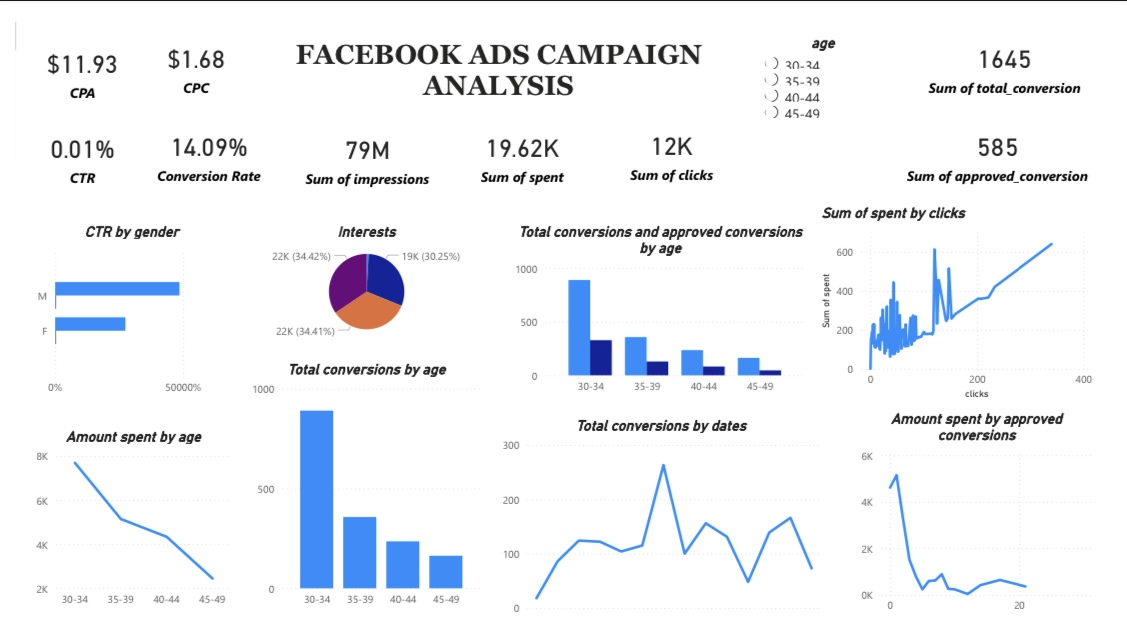

What the dashboard file says about the page in this screenshot:
{"tool":"powerbi","page":{"name":"Page 1","canvas":[1280,720],"ordinal":0},"visuals":[{"type":"card","fields":{"Values":["Sum(data.total_conversion)"]},"box":[1050.7,15.1,215.4,75.6],"z":0},{"type":"card","fields":{"Values":["Sum(data.spent)"]},"box":[519.7,113.4,147.4,86.9],"z":1000},{"type":"card","fields":{"Values":["Sum(data.impressions)"]},"box":[323.2,115.3,177.6,86.9],"z":2000},{"type":"card","fields":{"Values":["Sum(data.approved_conversion)"]},"box":[1033.7,107.7,232.4,94.5],"z":3000},{"type":"clusteredBarChart","title":"CTR by gender","fields":{"Category":["data.gender"],"Y":["CountNonNull(data.gender)","data.CTR"]},"box":[18.9,236.2,234.3,209.8],"z":4000},{"type":"card","fields":{"Values":["Sum(data.clicks)"]},"box":[691.7,111.5,153.1,86.9],"z":5000},{"type":"lineChart","title":"Amount spent by age","fields":{"Category":["data.age"],"Y":["Sum(data.spent)"]},"box":[18.9,476.2,238.1,217.3],"z":6000},{"type":"lineChart","fields":{"Y":["Sum(data.spent)"],"Category":["data.clicks"]},"box":[939.2,213.5,326.9,232.4],"z":7000},{"type":"lineChart","title":"Amount  spent by approved conversions","fields":{"Y":["Sum(data.spent)"],"Category":["data.approved_conversion"]},"box":[984.6,455.4,281.6,245.7],"z":8000},{"type":"clusteredColumnChart","title":"Total conversions and approved conversions by age","fields":{"Y":["Sum(data.total_conversion)","Sum(data.approved_conversion)"],"Category":["data.age"]},"box":[580.2,236.2,349.6,207.9],"z":9000},{"type":"pieChart","title":"Interests","fields":{"Y":["Sum(data.approved_conversion)","Sum(data.interest1)","Sum(data.interest2)","Sum(data.interest3)"]},"box":[257,236.2,308,141.7],"z":10000},{"type":"lineChart","title":"Total conversions by dates","fields":{"Category":["data.reporting_end","data.reporting_start"],"Y":["Sum(data.total_conversion)"]},"box":[565,463,381.7,238.1],"z":11000},{"type":"card","fields":{"Values":["data.CTR"]},"box":[18.9,111.5,119.1,92.6],"z":12000},{"type":"card","fields":{"Values":["data.Conversion Rate"]},"box":[147.4,111.5,158.7,88.8],"z":13000},{"type":"card","fields":{"Values":["data.CPC"]},"box":[151.2,13.2,120.9,77.5],"z":14000},{"type":"card","fields":{"Values":["data.CPA"]},"box":[18.9,15.1,119.1,86.9],"z":15000},{"type":"clusteredColumnChart","title":"Total conversions by age","fields":{"Y":["Sum(data.total_conversion)"],"Category":["data.age"]},"box":[272.1,396.9,277.8,296.7],"z":16000},{"type":"listSlicer","fields":{"Values":["data.age"]},"box":[871.2,15.1,149.3,183.3],"z":17000},{"type":"textbox","box":[287.2,15.1,557.5,86.9],"z":18000}]}

Visuals, with their boxes in screenshot pixels (x1, y1, x2, y2), scaled from the page's 1280x720 canvas onto the 1127x642 screenshot:
card - Sum(data.total_conversion): (925,13,1115,81)
card - Sum(data.spent): (458,101,587,179)
card - Sum(data.impressions): (285,103,441,180)
card - Sum(data.approved_conversion): (910,96,1115,180)
"CTR by gender" clusteredBarChart: (17,211,223,398)
card - Sum(data.clicks): (609,99,744,177)
"Amount spent by age" lineChart: (17,425,226,618)
lineChart - Sum(data.spent) x data.clicks: (827,190,1115,398)
"Amount  spent by approved conversions" lineChart: (867,406,1115,625)
"Total conversions and approved conversions by age" clusteredColumnChart: (511,211,819,396)
"Interests" pieChart: (226,211,497,337)
"Total conversions by dates" lineChart: (497,413,834,625)
card - data.CTR: (17,99,122,182)
card - data.Conversion Rate: (130,99,270,179)
card - data.CPC: (133,12,240,81)
card - data.CPA: (17,13,122,91)
"Total conversions by age" clusteredColumnChart: (240,354,484,618)
listSlicer - data.age: (767,13,899,177)
textbox: (253,13,744,91)
